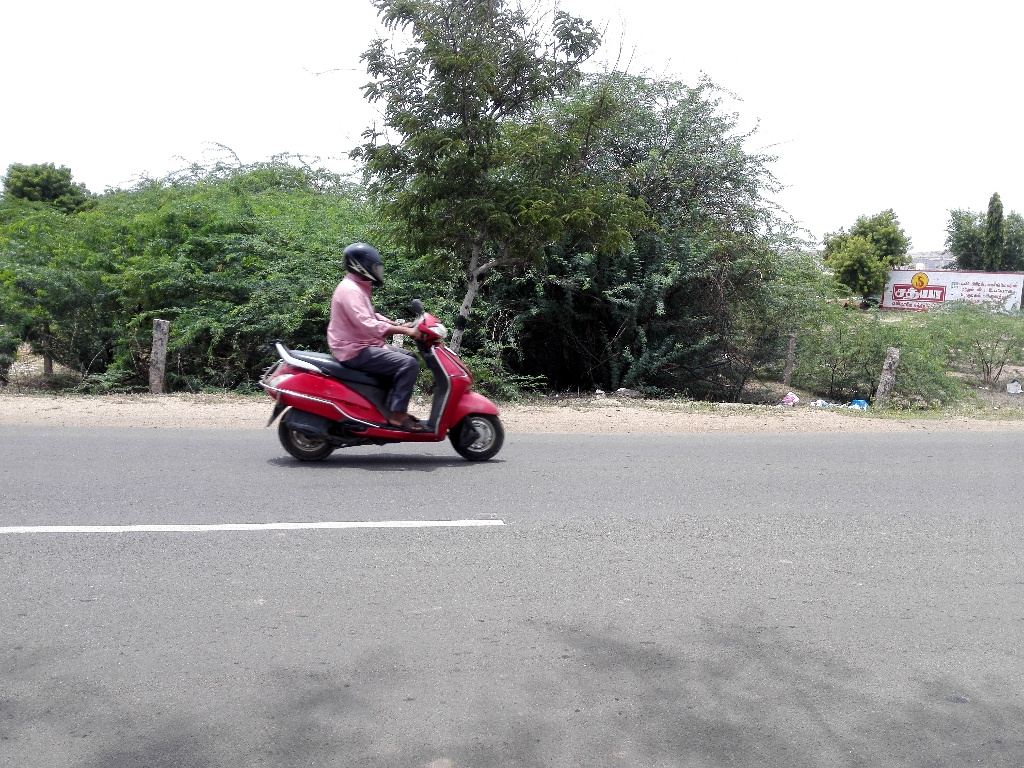biker: (240, 216, 532, 476)
helmet: (337, 233, 398, 300)
